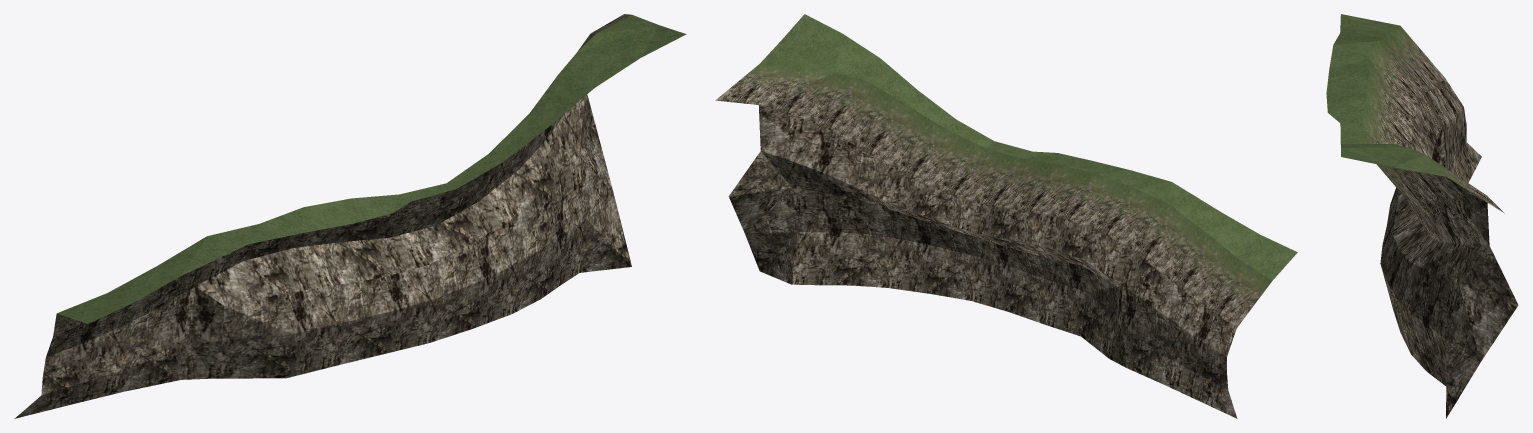
The model's file is a_carisle_mid_landmass_02_04.fbx.
3 views of the same model, side by side, from view 1: azimuth 30°, elevation 25°; view 2: azimuth 150°, elevation 25°; view 3: azimuth 270°, elevation 25° (orthographic). The views are drawn at different scales.
Parts seen in each view (by area): view 1: a_carisle_mid_landmass_02_04; view 2: a_carisle_mid_landmass_02_04; view 3: a_carisle_mid_landmass_02_04.
Boxes of the visible parts, x1,y1,x2,y2 form: a_carisle_mid_landmass_02_04: (14, 14, 686, 418); a_carisle_mid_landmass_02_04: (715, 14, 1297, 418); a_carisle_mid_landmass_02_04: (1326, 14, 1518, 418).
Bounding box in the file's own units: 27.49 × 7.65 × 12.33.
